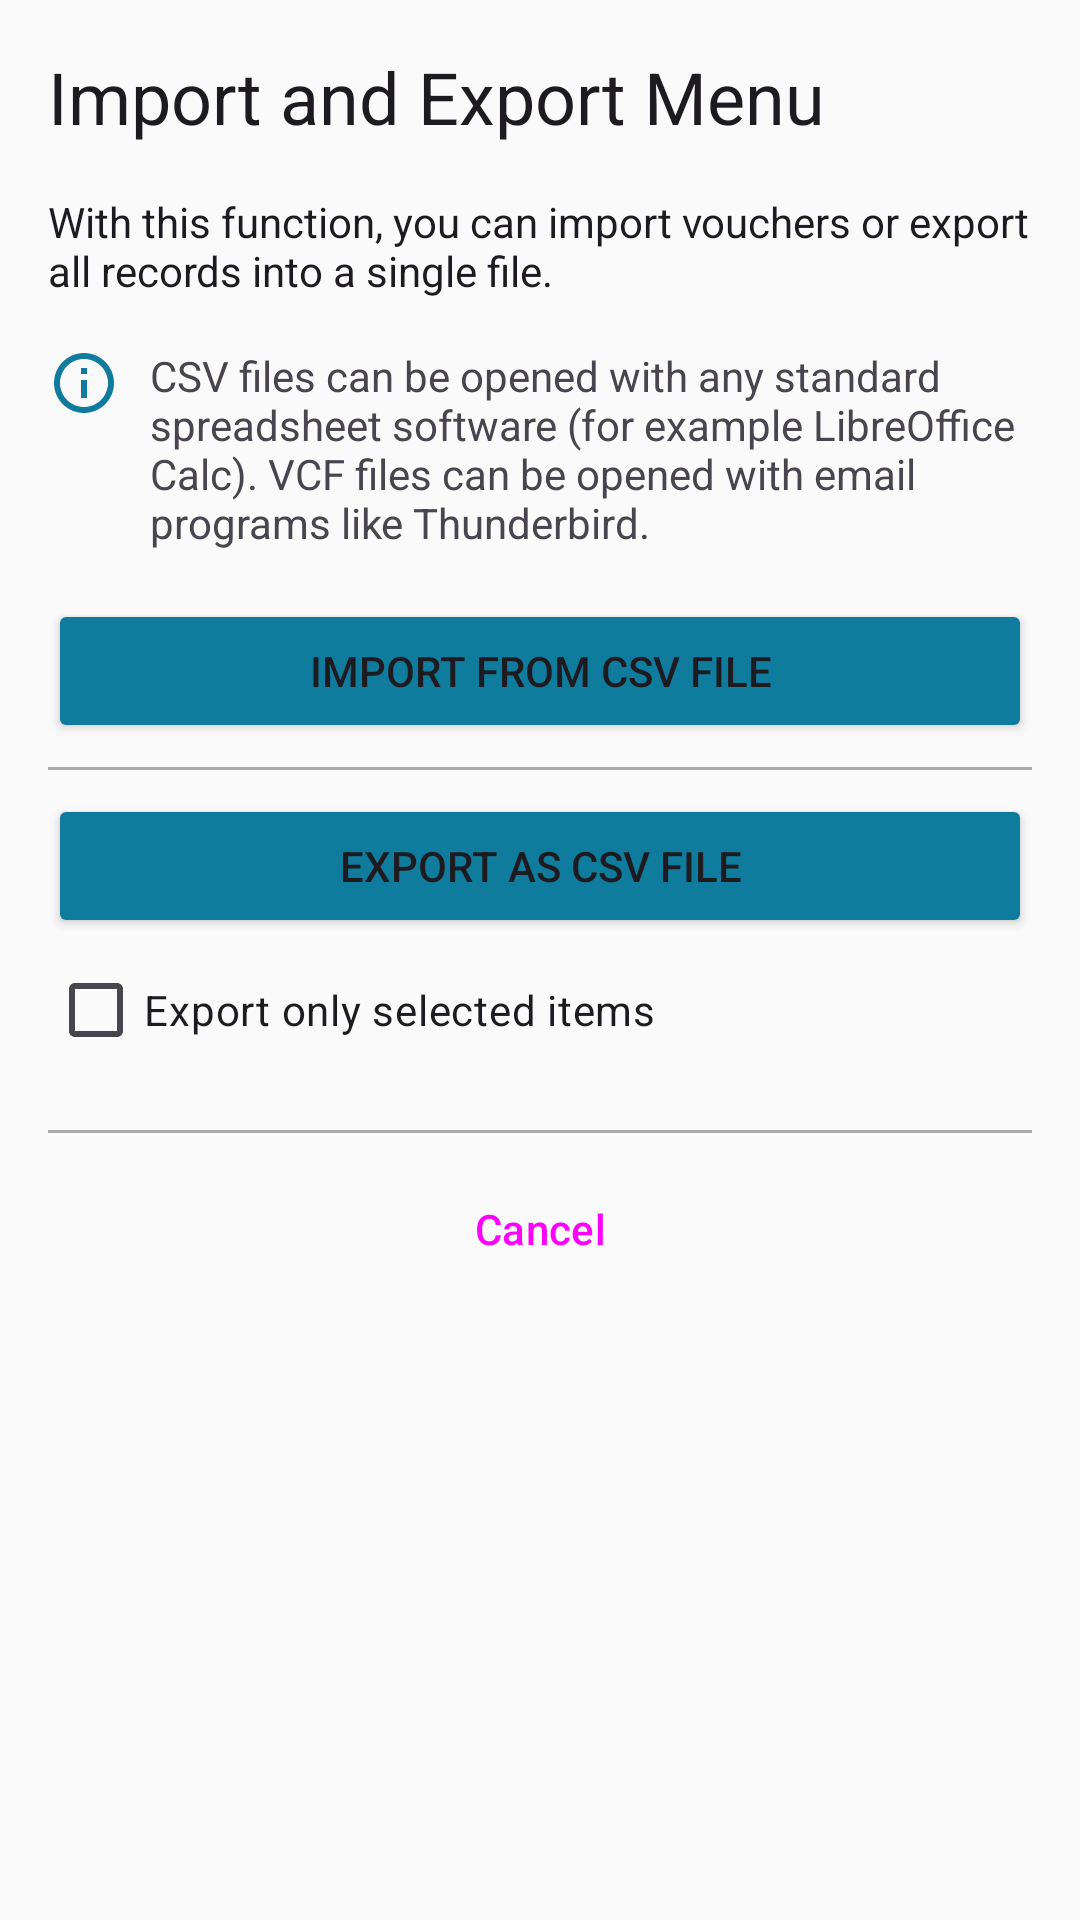

Icon bounding boxes for this 1080*1920 phone screenshot, format [x1, y1, x2, y2]:
info: [54, 353, 114, 413]
